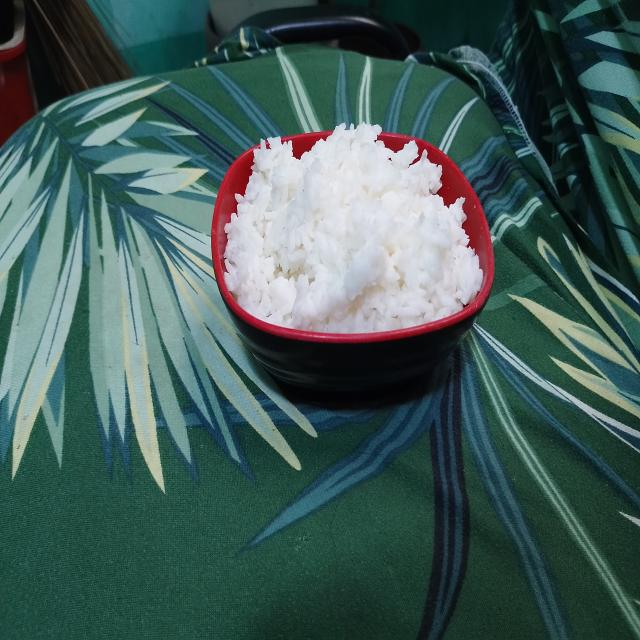Chicken -Chicken Inasal-: (226, 119, 476, 327)
